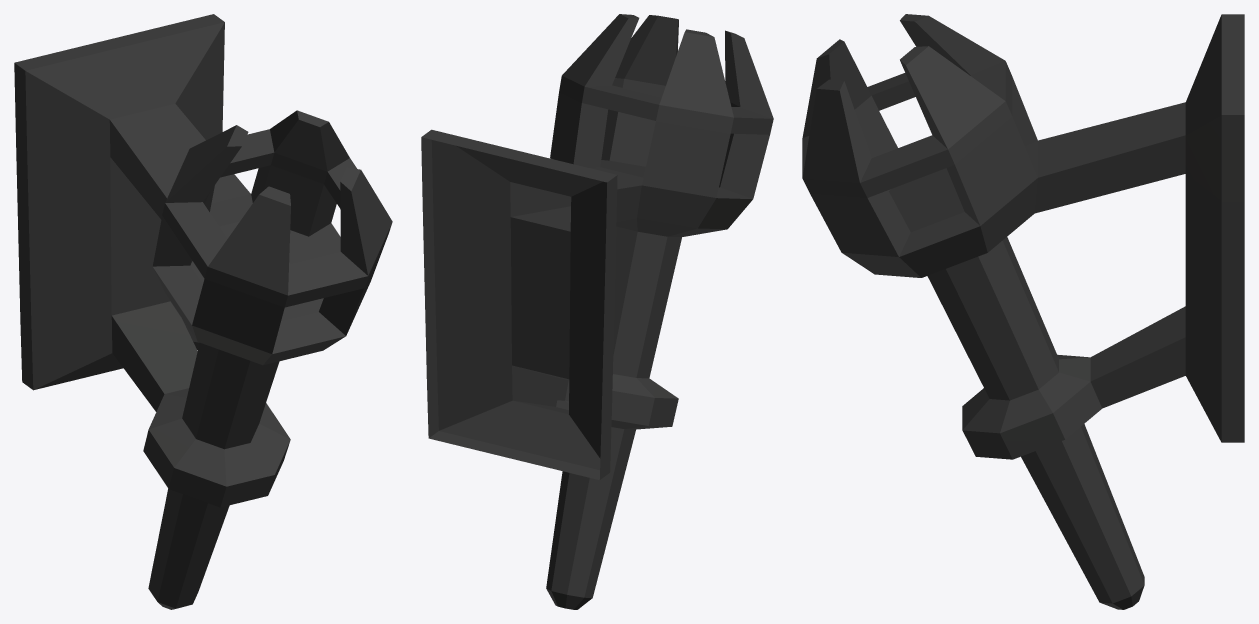
The model's file is Wall_sconce.fbx.
3 views of the same model, side by side, from view 1: azimuth 30°, elevation 25°; view 2: azimuth 150°, elevation 25°; view 3: azimuth 270°, elevation 25° (orthographic). The views are drawn at different scales.
Parts seen in each view (by area): view 1: Wall_sconce; view 2: Wall_sconce; view 3: Wall_sconce.
Boxes of the visible parts, x1,y1,x2,y2 form: Wall_sconce: (14, 14, 392, 609); Wall_sconce: (421, 14, 773, 609); Wall_sconce: (802, 14, 1244, 609).
Bounding box in the file's own units: 21.33 × 57.02 × 39.63.
